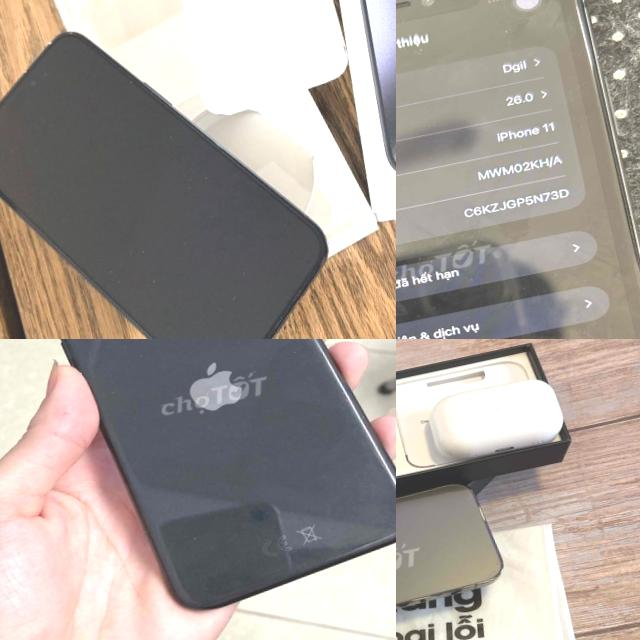physical_damage: (37, 34, 60, 49), (15, 62, 32, 77)
